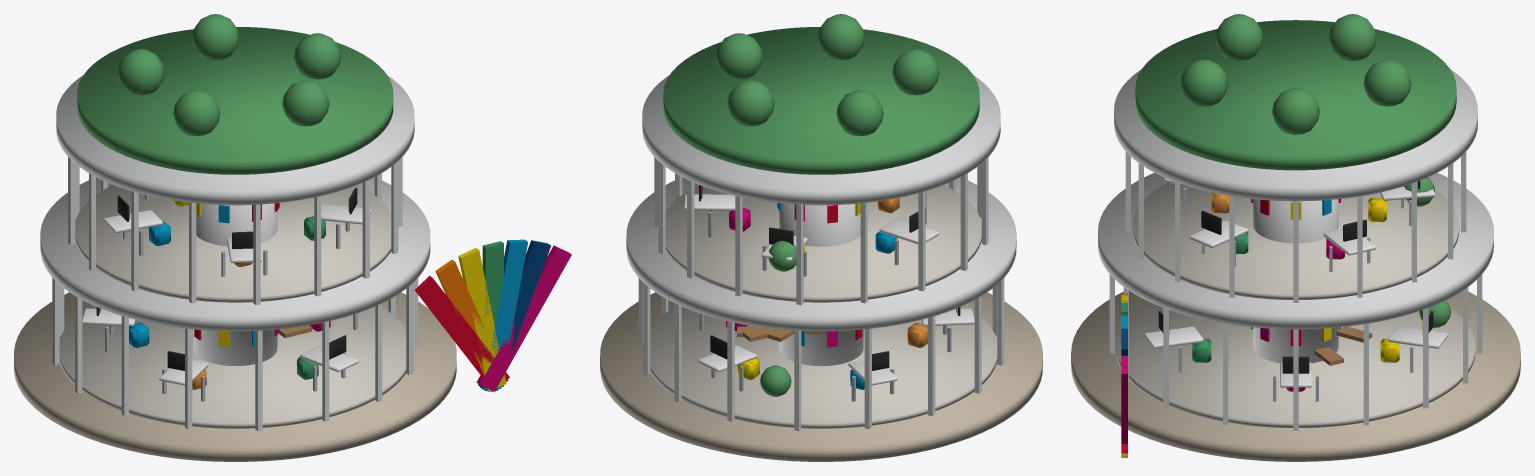
3 views of the same model, side by side, from view 1: azimuth 30°, elevation 25°; view 2: azimuth 150°, elevation 25°; view 3: azimuth 270°, elevation 25° (orthographic).
Parts seen in each view (by area): view 1: lm_02; view 2: lm_02; view 3: lm_02.
Boxes of the visible parts, x1,y1,x2,y2 form: lm_02: (14, 14, 571, 461); lm_02: (600, 14, 1042, 461); lm_02: (1071, 14, 1520, 461).
Size of the model in its own units: 0.969 by 0.6611 by 0.84.
